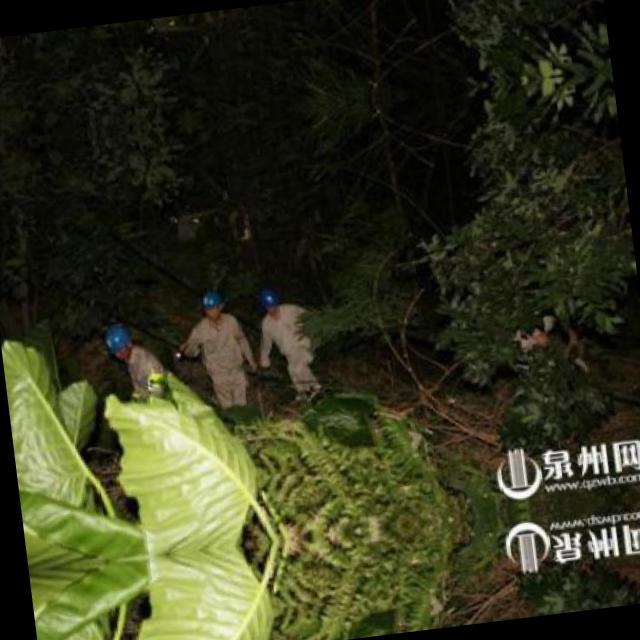helmet: (96, 319, 138, 368), (200, 290, 226, 320), (260, 286, 282, 314)
